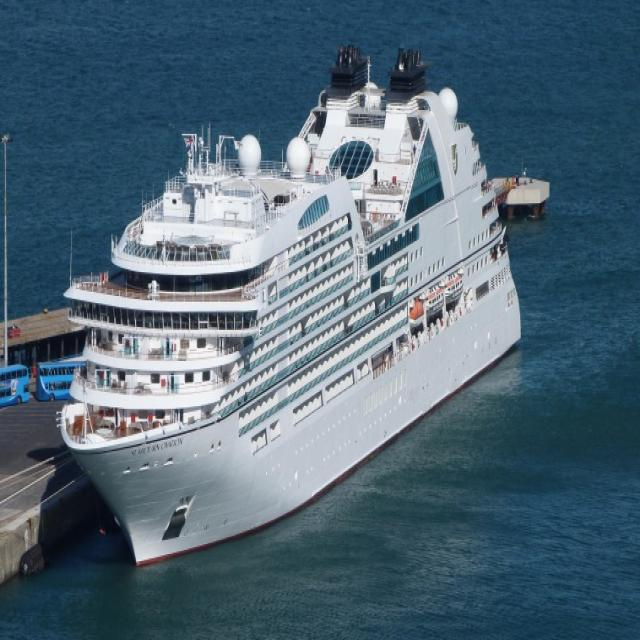cruises: (53, 42, 527, 579)
